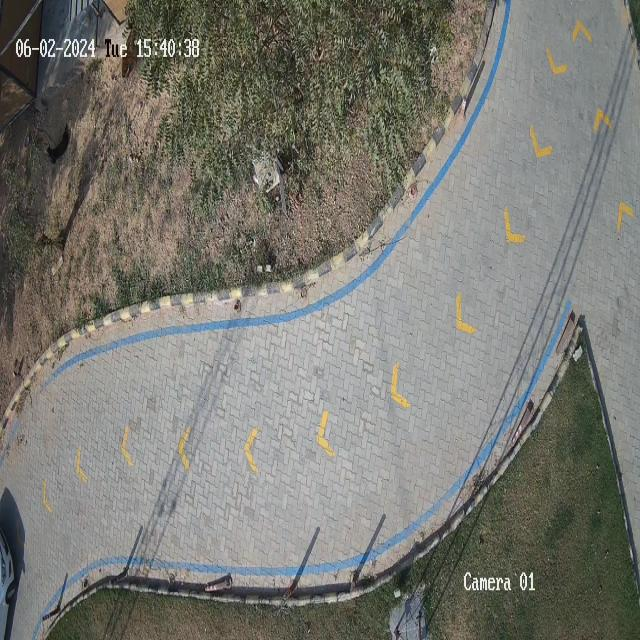car: (0, 533, 17, 640)
